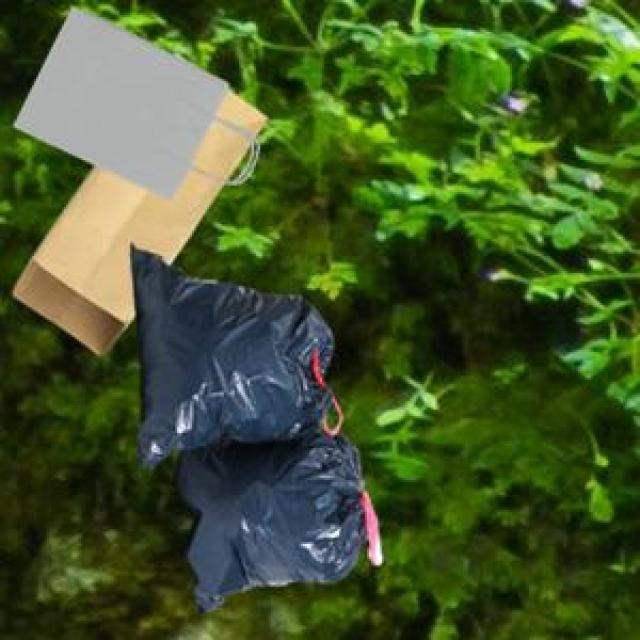miscellaneous trash: (128, 241, 378, 608)
paper: (9, 85, 262, 352), (9, 2, 248, 196)
